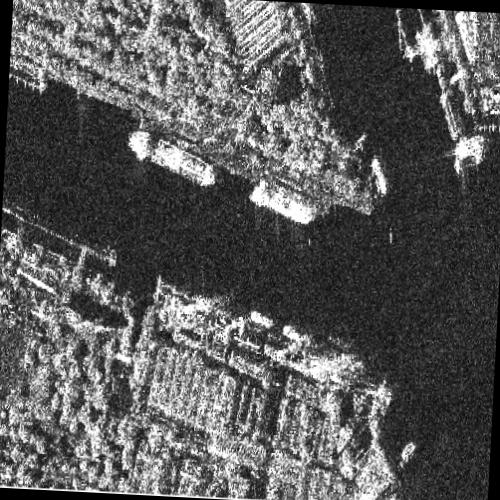ship: (128, 129, 217, 187), (249, 184, 317, 224), (371, 158, 387, 196), (282, 324, 303, 343), (250, 310, 273, 327)
